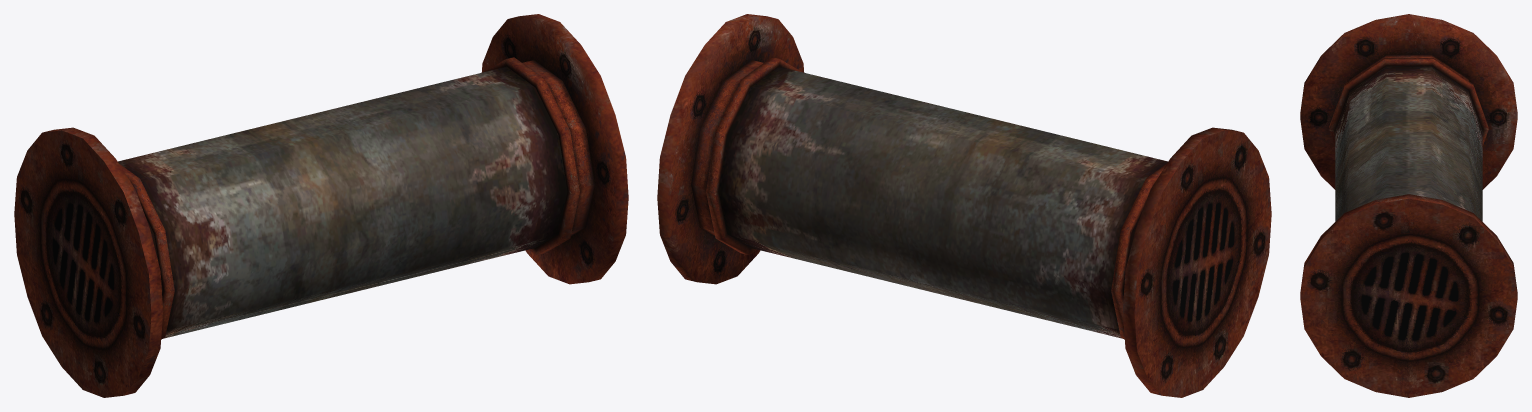
Rendered from short.dae.
3 renders of one model, left to right at view 1: azimuth 30°, elevation 25°; view 2: azimuth 150°, elevation 25°; view 3: azimuth 270°, elevation 25°, orthographic. The views are drawn at different scales.
Parts seen in each view (by area): view 1: polySurface775; view 2: polySurface775; view 3: polySurface775.
Boxes of the visible parts, x1,y1,x2,y2 form: polySurface775: (14, 14, 628, 397); polySurface775: (657, 14, 1271, 397); polySurface775: (1300, 14, 1517, 397).
Size of the model in its own units: 1 by 0.5039 by 0.4983.
